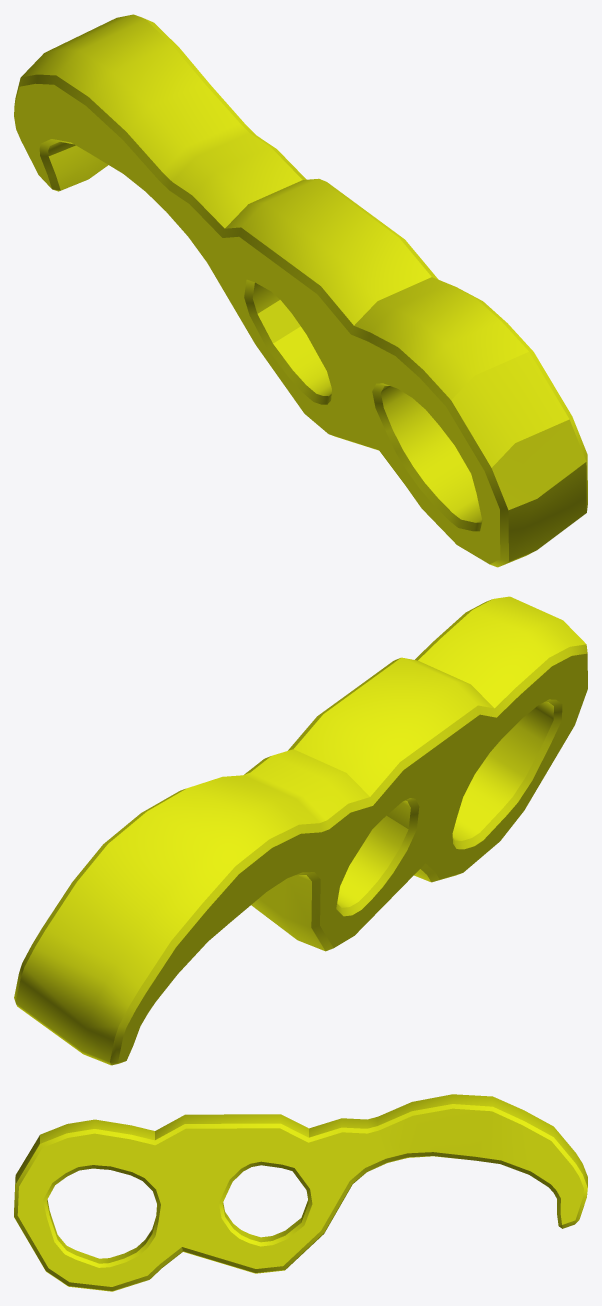
The model's file is zang_gu_iron_low.fbx.
3 renders of one model, top to bottom at view 1: azimuth 30°, elevation 25°; view 2: azimuth 150°, elevation 25°; view 3: azimuth 270°, elevation 25°, orthographic. The views are drawn at different scales.
Parts seen in each view (by area): view 1: Box003; view 2: Box003; view 3: Box003.
Boxes of the visible parts, x1,y1,x2,y2 form: Box003: (14, 14, 587, 567); Box003: (14, 596, 587, 1065); Box003: (14, 1094, 587, 1291).
Bounding box in the file's own units: 10.02 × 16.2 × 46.99.
